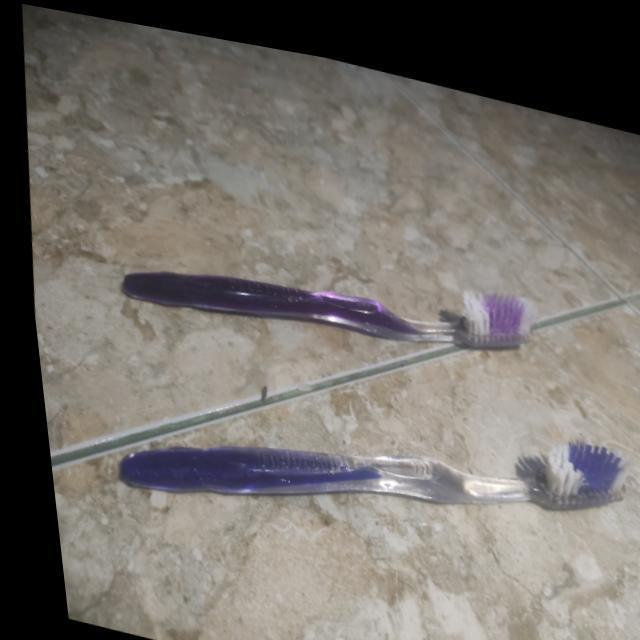toothbrush: (103, 263, 528, 354), (100, 425, 617, 489)
